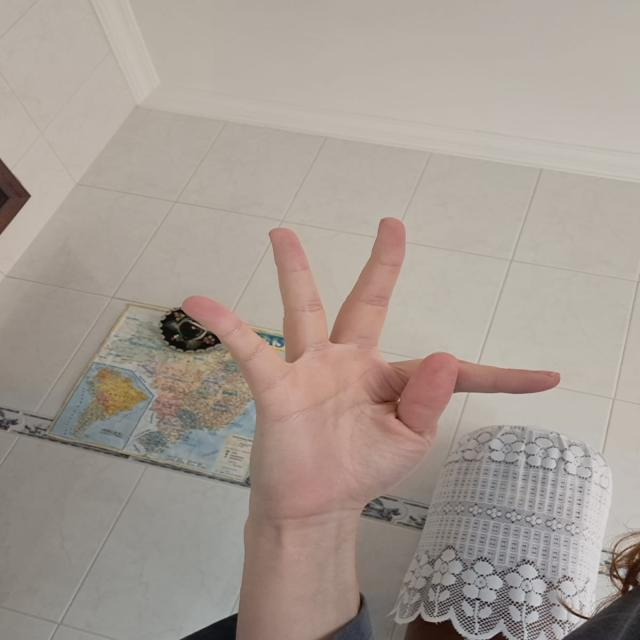T: (174, 205, 574, 512)
